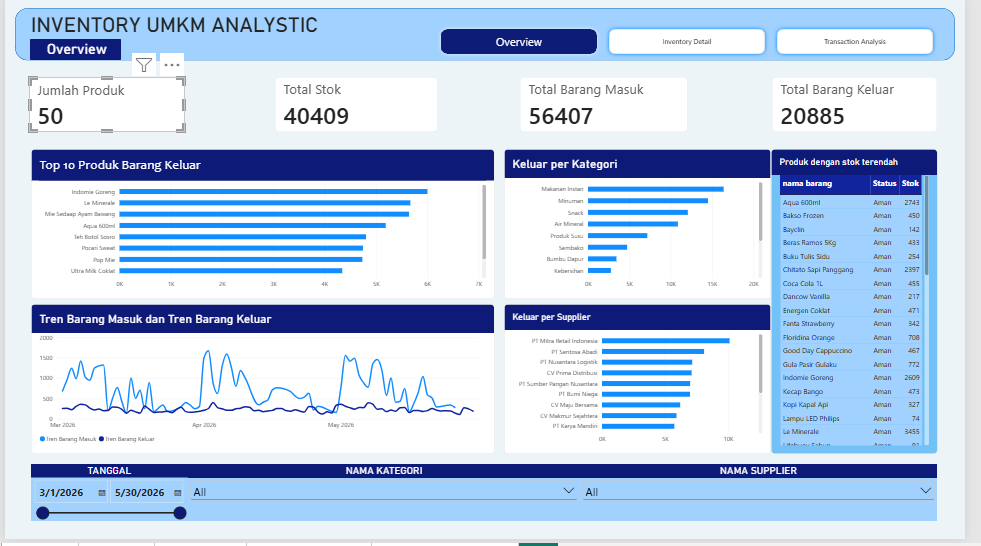

The page's visual inventory and layout, read from the dashboard file:
{"tool":"powerbi","page":{"name":"Overview","canvas":[1920,1080],"ordinal":2},"visuals":[{"type":"cardVisual","fields":{"Data":["barang.Total Stok"]},"box":[540,156,325,110],"z":0},{"type":"cardVisual","fields":{"Data":["barang.Total Barang Keluar"]},"box":[1534,156,330,110],"z":1000},{"type":"cardVisual","fields":{"Data":["barang.Total Barang Masuk"]},"box":[1030,156,335,110],"z":2000},{"type":"cardVisual","fields":{"Data":["barang.Jumlah Produk"]},"box":[48,156,312.5,110],"z":3000},{"type":"shape","box":[20,17.5,1880,105],"z":4000},{"type":"textbox","title":"INVENTORY UMKM ANALYSTIC","box":[52.5,25,620,52.5],"z":5000},{"type":"textbox","title":"Overview ","box":[50,80,182,42],"z":6000},{"type":"clusteredBarChart","title":"Top 10 Produk Barang Keluar","fields":{"Category":["barang.nama_barang"],"Y":["detail_transaksi.Total Barang Keluar Detail"]},"box":[52.9,299.8,927.2,299.8],"z":8000},{"type":"lineChart","title":"Tren Barang Masuk dan Tren Barang Keluar ","fields":{"Category":["DimTanggal.Date.Variation.Date Hierarchy.Year","DimTanggal.Date.Variation.Date Hierarchy.Quarter","DimTanggal.Date.Variation.Date Hierarchy.Month","DimTanggal.Date.Variation.Date Hierarchy.Day"],"Y":["transaksi_masuk.Tren Barang Masuk","transaksikeluar.Tren Barang Keluar"]},"box":[52.9,609.8,927.2,299.8],"z":9000},{"type":"barChart","title":"Keluar per Kategori ","fields":{"Category":["kategori.nama_kategori"],"Y":["transaksikeluar.Keluar per Kategori"]},"box":[997.8,299.8,534.2,299.8],"z":10000},{"type":"barChart","title":"Keluar per Supplier","fields":{"Category":["supplier.nama_supplier"],"Y":["transaksikeluar.Keluar per Supplier"]},"box":[997.8,609.8,534.2,299.8],"z":11000},{"type":"tableEx","title":"Produk dengan stok terendah","fields":{"Values":["barang.nama_barang","barang.Status Stok","Sum(barang.stok)"]},"box":[1532,299.8,332.6,609.8],"z":12000},{"type":"slicer","title":"TANGGAL","fields":{"Values":["DimTanggal.Date"]},"box":[52,930,314,114],"z":13000},{"type":"slicer","title":"NAMA KATEGORI","fields":{"Values":["kategori.nama_kategori"]},"box":[366,930,784,114],"z":14000},{"type":"slicer","title":"NAMA SUPPLIER","fields":{"Values":["supplier.nama_supplier"]},"box":[1150,930,714,114],"z":15000},{"type":"pageNavigator","box":[864,52,1000,66.2],"z":15001}]}

Visuals, with their boxes in screenshot pixels (x1, y1, x2, y2), scaled from the page's 1920x1080 canvas onto the 981x546 screenshot:
cardVisual - barang.Total Stok: [276, 79, 442, 134]
cardVisual - barang.Total Barang Keluar: [784, 79, 952, 134]
cardVisual - barang.Total Barang Masuk: [526, 79, 697, 134]
cardVisual - barang.Jumlah Produk: [25, 79, 184, 134]
shape: [10, 9, 971, 62]
"INVENTORY UMKM ANALYSTIC" textbox: [27, 13, 344, 39]
"Overview " textbox: [26, 40, 119, 62]
"Top 10 Produk Barang Keluar" clusteredBarChart: [27, 152, 501, 303]
"Tren Barang Masuk dan Tren Barang Keluar " lineChart: [27, 308, 501, 460]
"Keluar per Kategori " barChart: [510, 152, 783, 303]
"Keluar per Supplier" barChart: [510, 308, 783, 460]
"Produk dengan stok terendah" tableEx: [783, 152, 953, 460]
"TANGGAL" slicer: [27, 470, 187, 528]
"NAMA KATEGORI" slicer: [187, 470, 588, 528]
"NAMA SUPPLIER" slicer: [588, 470, 952, 528]
pageNavigator: [441, 26, 952, 60]
